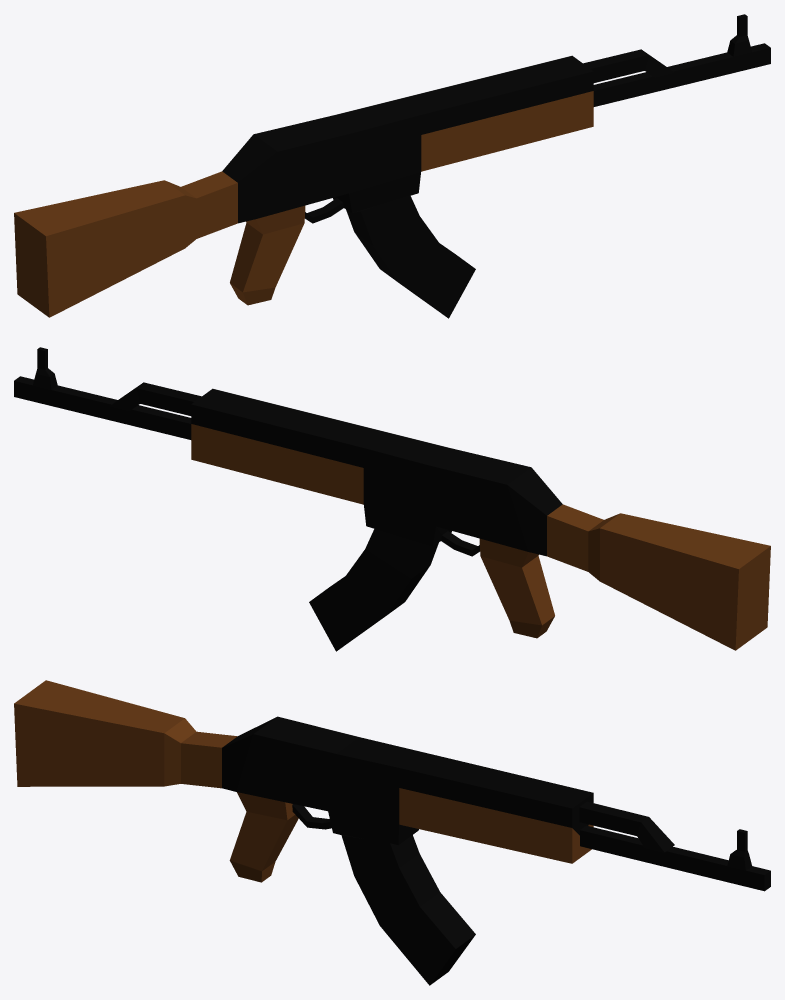
The picture shows the model from 3 angles, top to bottom: view 1: azimuth 30°, elevation 25°; view 2: azimuth 150°, elevation 25°; view 3: azimuth 330°, elevation 25°; orthographic projection.
Parts seen in each view (by area): view 1: Cube; view 2: Cube; view 3: Cube.
Boxes of the visible parts, x1,y1,x2,y2 form: Cube: (14, 14, 770, 318); Cube: (14, 347, 770, 651); Cube: (14, 680, 770, 985).
Size of the model in its own units: 281 by 80.81 by 21.14.
